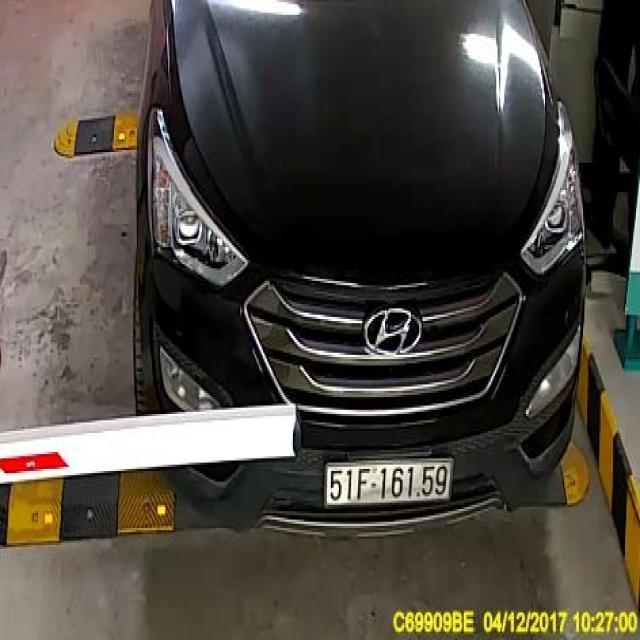bien_so_oto: (324, 457, 454, 510)
